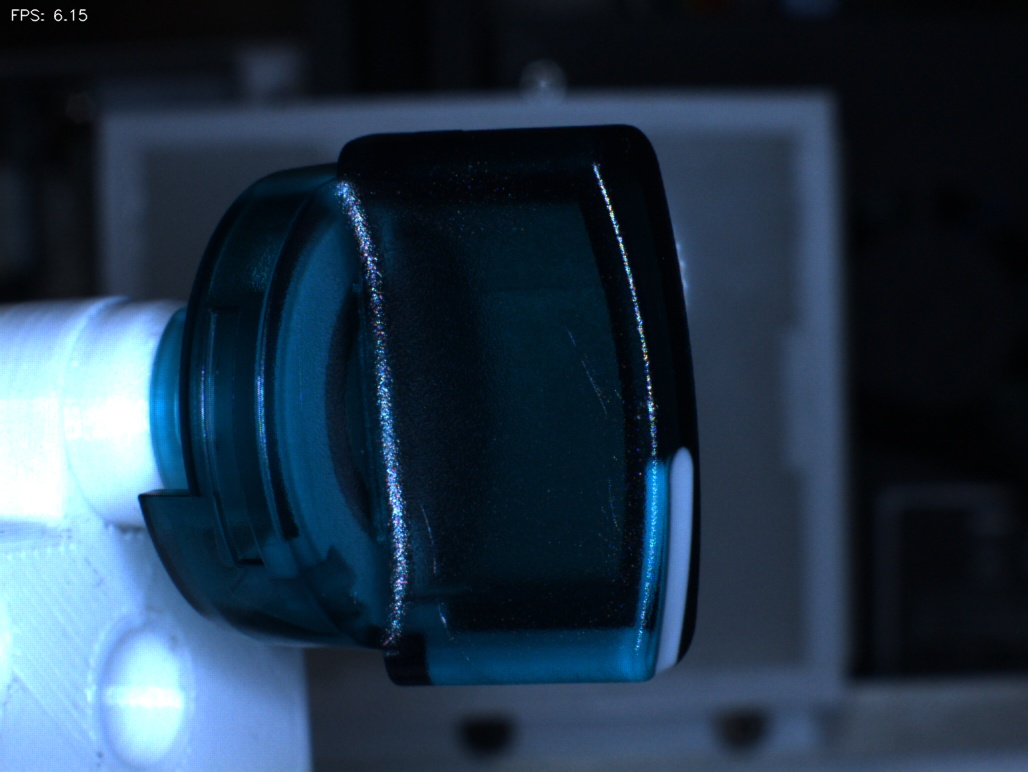Givrage: (406, 493, 483, 665), (553, 312, 644, 427), (580, 470, 648, 587)
